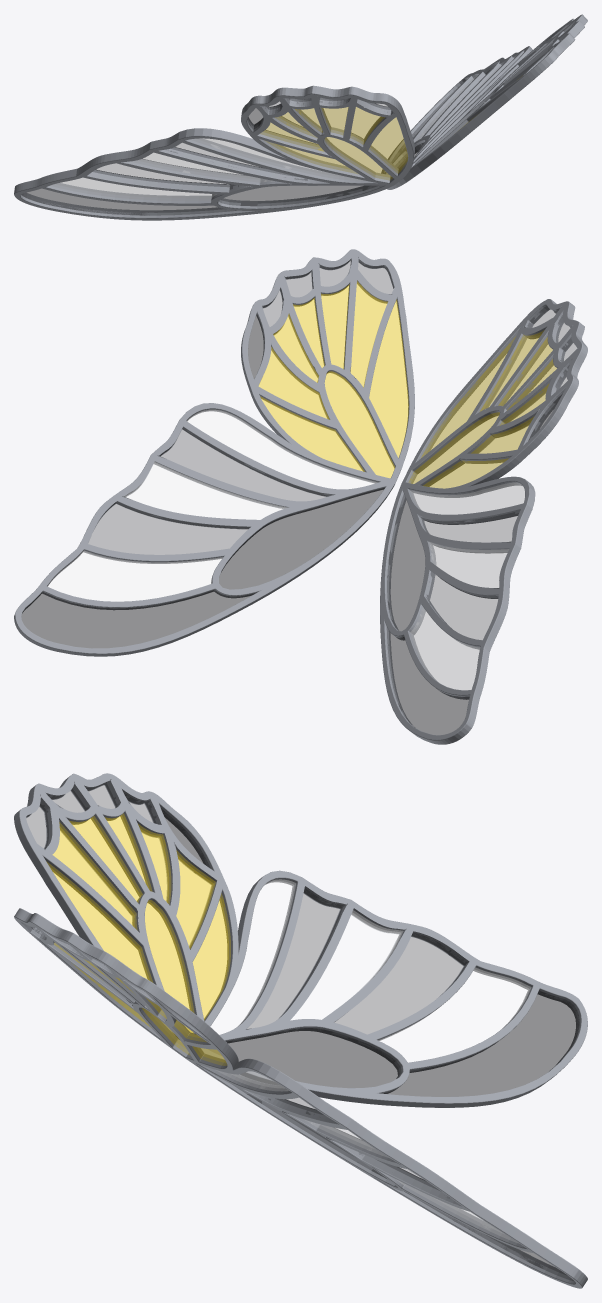
File: asset.glb
3 views of the same model, one above another, from view 1: azimuth 30°, elevation 25°; view 2: azimuth 150°, elevation 25°; view 3: azimuth 270°, elevation 25° (orthographic). The views are drawn at different scales.
Parts seen in each view (by area): view 1: 寬尾鳳蝶.svg.038, 寬尾鳳蝶.svg.006, 寬尾鳳蝶.svg.003, 寬尾鳳蝶.svg.008, 寬尾鳳蝶.svg.037, 寬尾鳳蝶.svg.036; view 2: 寬尾鳳蝶.svg.006, 寬尾鳳蝶.svg.038, 寬尾鳳蝶.svg.035, 寬尾鳳蝶.svg.032, 寬尾鳳蝶.svg.034, 寬尾鳳蝶.svg.033, 寬尾鳳蝶.svg.037, 寬尾鳳蝶.svg.008, 寬尾鳳蝶.svg.003, 寬尾鳳蝶.svg.036; view 3: 寬尾鳳蝶.svg.038, 寬尾鳳蝶.svg.006, 寬尾鳳蝶.svg.037, 寬尾鳳蝶.svg.008, 寬尾鳳蝶.svg.003, 寬尾鳳蝶.svg.036, 寬尾鳳蝶.svg.034, 寬尾鳳蝶.svg.035, 寬尾鳳蝶.svg.032.
Boxes of the visible parts, bbox=[...] form: 寬尾鳳蝶.svg.038: bbox=[14, 85, 414, 220]; 寬尾鳳蝶.svg.006: bbox=[381, 14, 587, 189]; 寬尾鳳蝶.svg.003: bbox=[260, 107, 407, 179]; 寬尾鳳蝶.svg.008: bbox=[51, 138, 363, 200]; 寬尾鳳蝶.svg.037: bbox=[21, 143, 307, 215]; 寬尾鳳蝶.svg.036: bbox=[219, 98, 390, 205]; 寬尾鳳蝶.svg.006: bbox=[14, 249, 414, 656]; 寬尾鳳蝶.svg.038: bbox=[380, 299, 587, 744]; 寬尾鳳蝶.svg.035: bbox=[259, 281, 408, 477]; 寬尾鳳蝶.svg.032: bbox=[21, 427, 327, 647]; 寬尾鳳蝶.svg.034: bbox=[47, 410, 377, 601]; 寬尾鳳蝶.svg.033: bbox=[219, 260, 393, 589]; 寬尾鳳蝶.svg.037: bbox=[387, 512, 518, 734]; 寬尾鳳蝶.svg.008: bbox=[410, 483, 524, 689]; 寬尾鳳蝶.svg.003: bbox=[409, 330, 556, 488]; 寬尾鳳蝶.svg.036: bbox=[387, 306, 576, 630]; 寬尾鳳蝶.svg.038: bbox=[14, 773, 587, 1107]; 寬尾鳳蝶.svg.006: bbox=[14, 908, 587, 1288]; 寬尾鳳蝶.svg.037: bbox=[247, 889, 579, 1096]; 寬尾鳳蝶.svg.008: bbox=[210, 879, 530, 1062]; 寬尾鳳蝶.svg.003: bbox=[47, 813, 230, 1032]; 寬尾鳳蝶.svg.036: bbox=[26, 782, 401, 1087]; 寬尾鳳蝶.svg.034: bbox=[216, 1070, 517, 1242]; 寬尾鳳蝶.svg.035: bbox=[54, 943, 226, 1065]; 寬尾鳳蝶.svg.032: bbox=[269, 1098, 573, 1280].
Size of the model in its own units: 0.8975 by 0.5048 by 0.7923.
